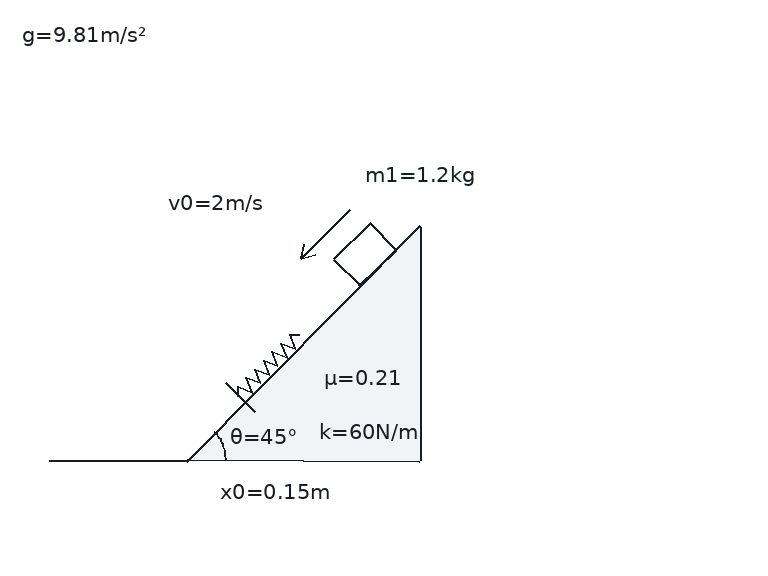block: (332, 221, 399, 288)
ramp: (184, 224, 422, 462)
spring: (236, 332, 301, 397)
